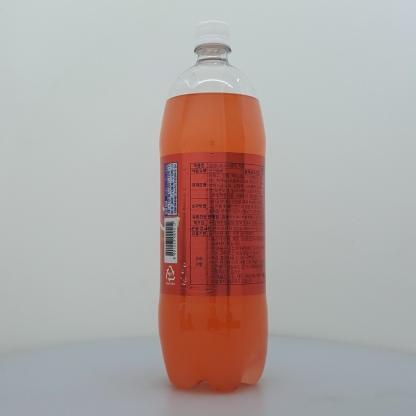--------------: (158, 20, 269, 392)
